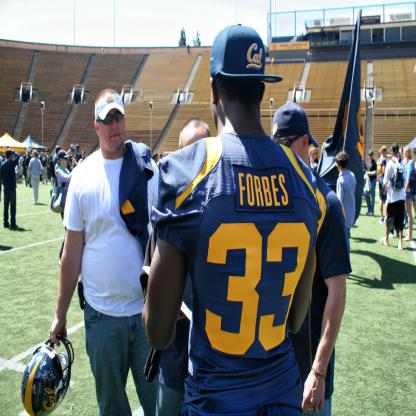Helmet: (20, 330, 77, 416)
